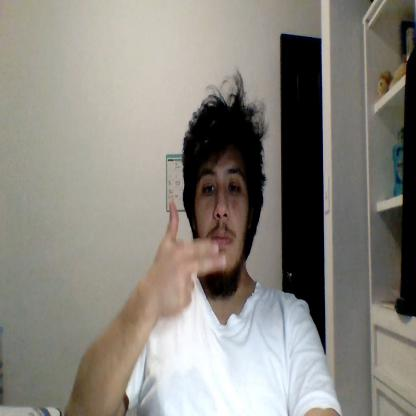H: (155, 199, 226, 314)
